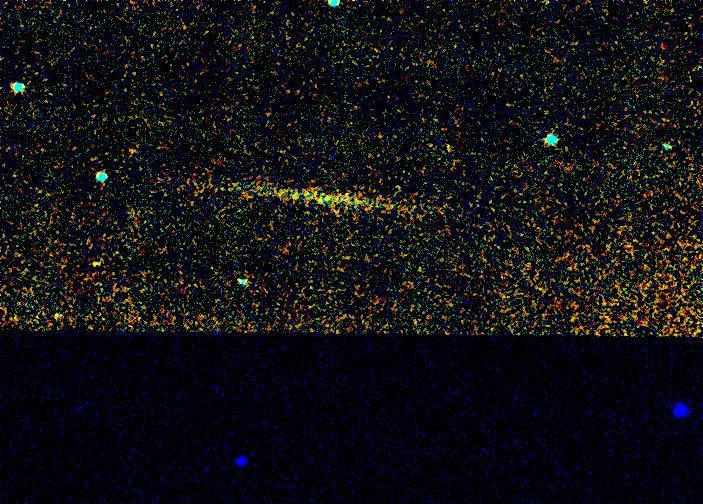star: (116, 135, 146, 165)
